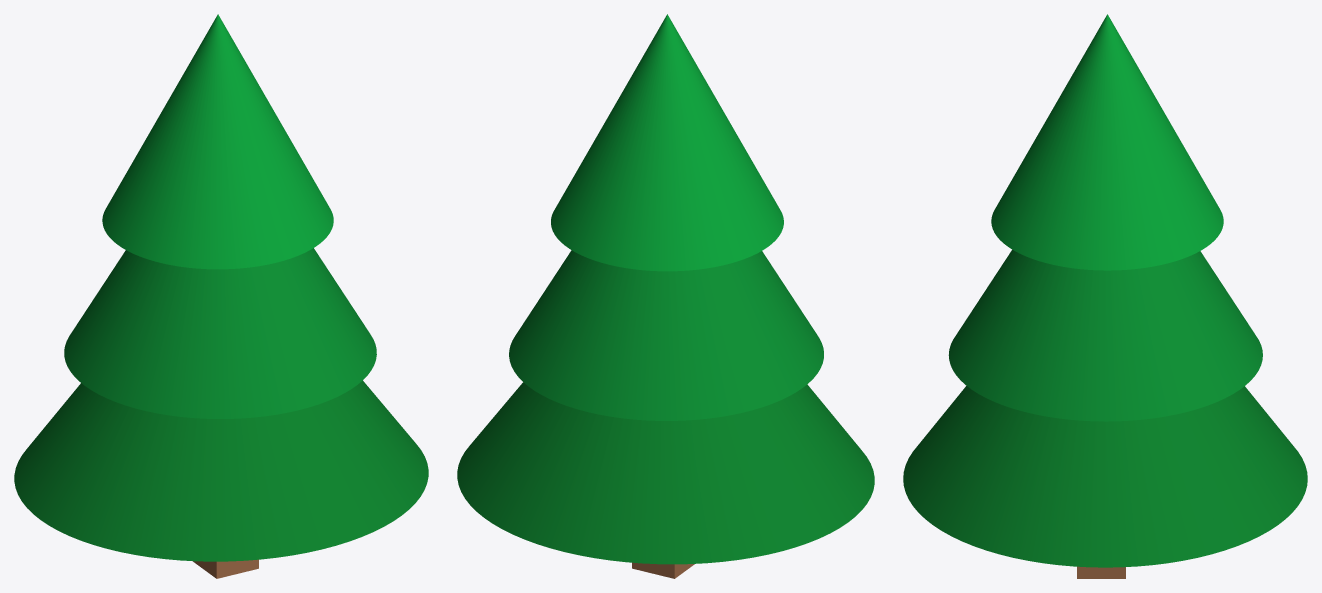
The model's file is Round_Tree.fbx.
The picture shows the model from 3 angles, left to right: view 1: azimuth 30°, elevation 25°; view 2: azimuth 150°, elevation 25°; view 3: azimuth 270°, elevation 25°; orthographic projection.
Visible parts, largest first — view 1: node_id270 (×4); view 2: node_id270 (×4); view 3: node_id270 (×4).
Boxes of the visible parts, x1=… form: node_id270 (×4): x1=14, y1=14, x2=428, y2=578; node_id270 (×4): x1=457, y1=14, x2=874, y2=578; node_id270 (×4): x1=903, y1=14, x2=1307, y2=578.
Size of the model in its own units: 0.3103 by 0.4501 by 0.2989.
4 materials, 4 textured.
